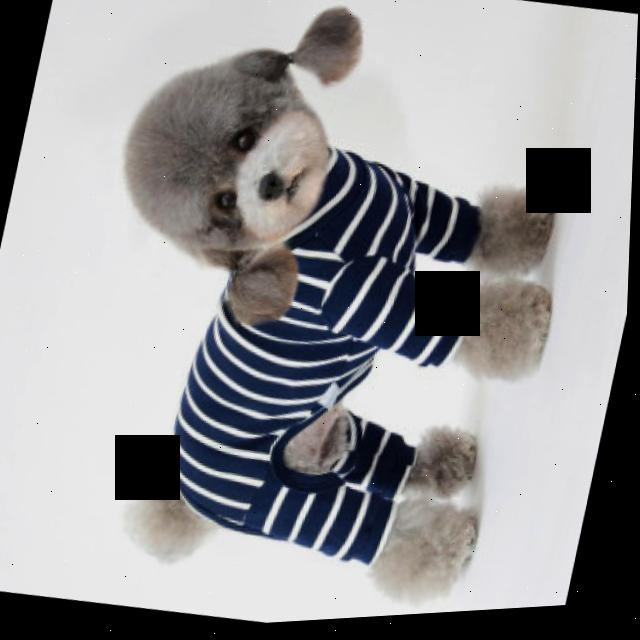cloth: (174, 153, 480, 569)
